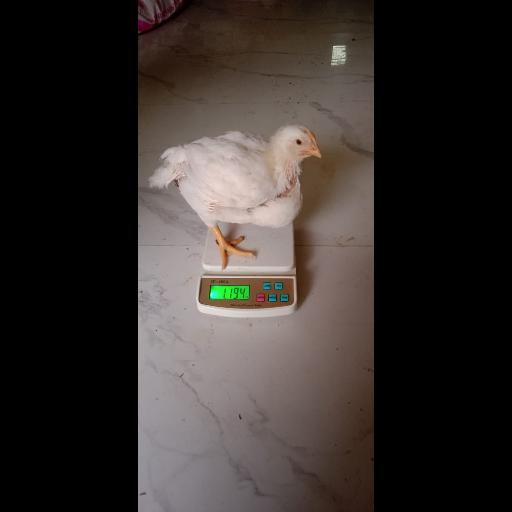chick: (151, 124, 321, 273)
